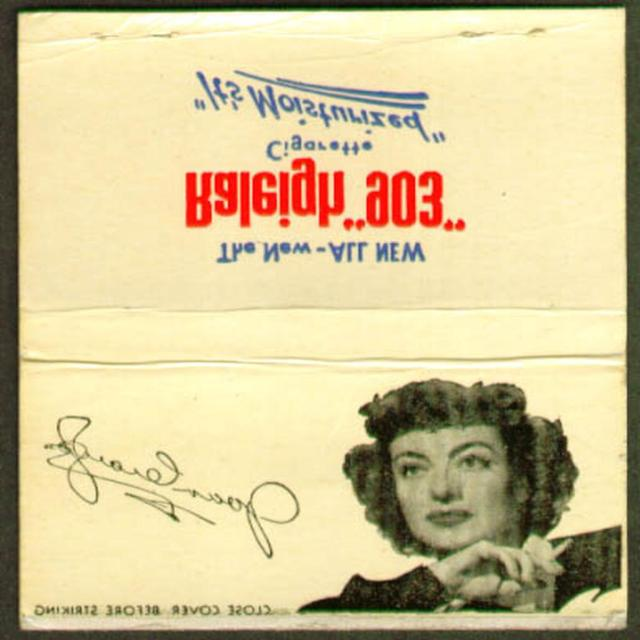smoking: (297, 377, 582, 614)
